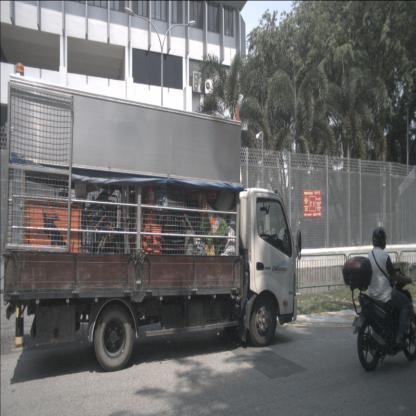vehicle-motorcycle: (342, 228, 416, 372)
vehicle-truck: (3, 71, 298, 372)
